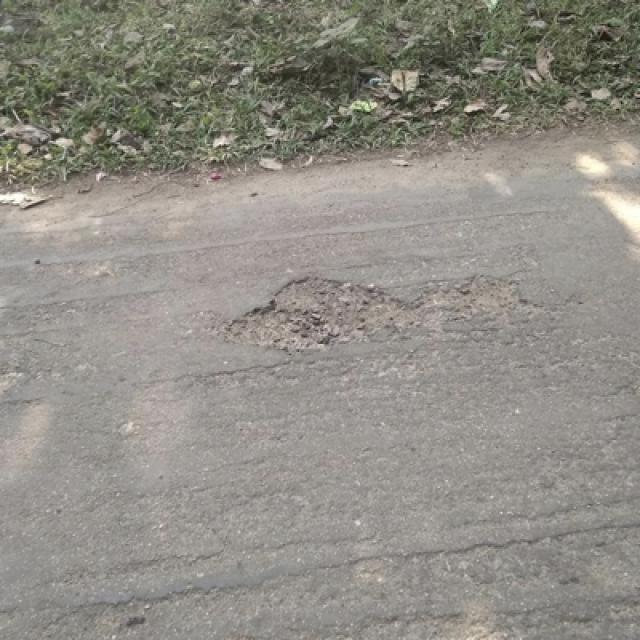Pothole: (215, 270, 534, 354)
